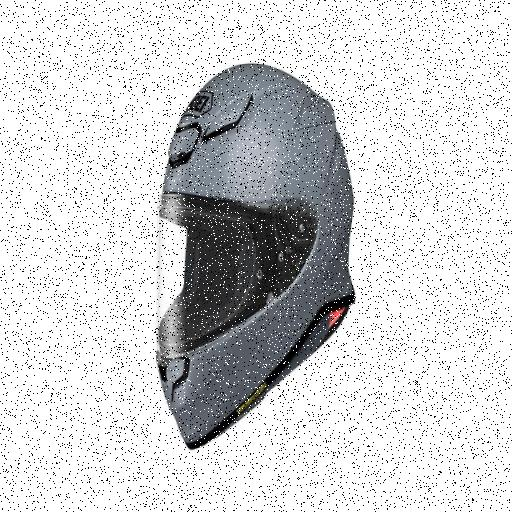Helmet: (122, 52, 376, 446)
